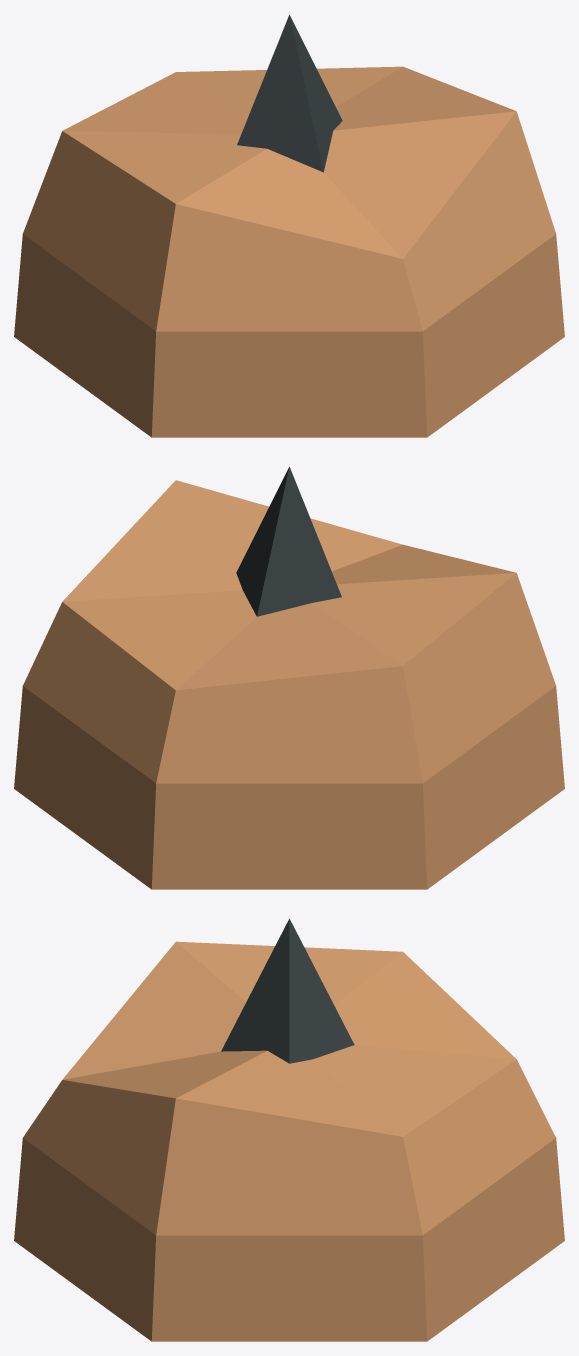
Rendered from Candle_2_Buff.fbx.
3 views of the same model, one above another, from view 1: azimuth 30°, elevation 25°; view 2: azimuth 150°, elevation 25°; view 3: azimuth 270°, elevation 25° (orthographic).
Parts seen in each view (by area): view 1: Candle_2_Buff; view 2: Candle_2_Buff; view 3: Candle_2_Buff.
Part boxes in pixels (x1,y1,x2,y2): Candle_2_Buff: [14, 14, 564, 437]; Candle_2_Buff: [14, 466, 564, 889]; Candle_2_Buff: [14, 918, 564, 1341].
Size of the model in its own units: 14.7 by 10.96 by 16.97.
